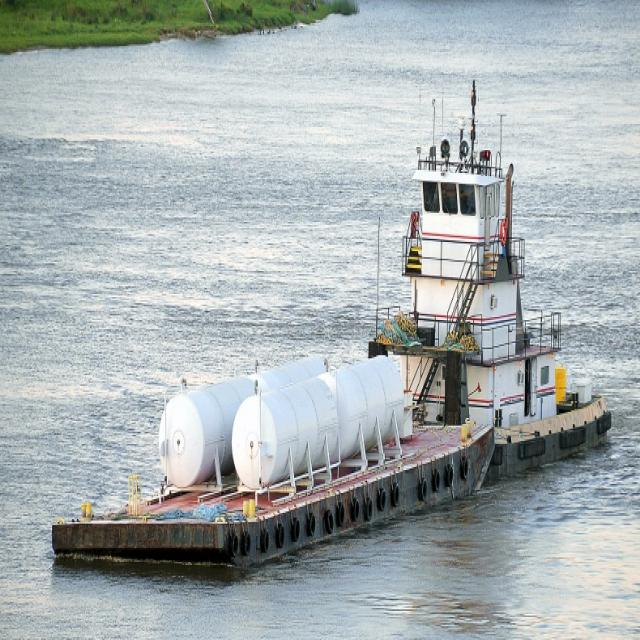tugboat: (365, 76, 618, 506)
